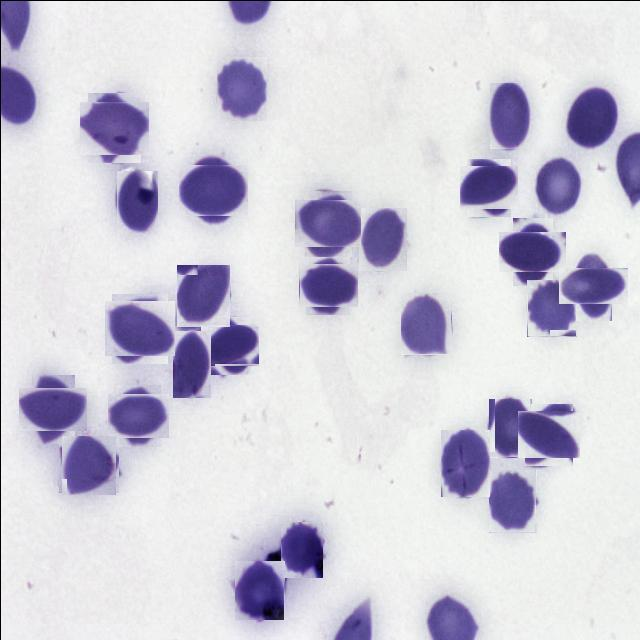red blood cell: (108, 296, 170, 359), (82, 96, 144, 158), (182, 158, 243, 220), (176, 264, 230, 327), (298, 194, 356, 252), (440, 429, 489, 496), (60, 436, 116, 494), (216, 56, 266, 120), (400, 292, 451, 354), (520, 406, 576, 462), (24, 381, 80, 436), (565, 88, 617, 147), (488, 469, 536, 532), (358, 207, 406, 270), (234, 560, 284, 620), (534, 152, 584, 211), (505, 224, 559, 278), (526, 279, 576, 336), (566, 259, 619, 312), (112, 388, 164, 442), (116, 170, 157, 234), (302, 258, 352, 310), (489, 82, 528, 148), (462, 162, 513, 212), (172, 330, 210, 397), (488, 398, 531, 457), (204, 320, 254, 370), (280, 521, 322, 577)
